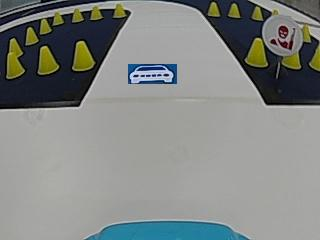evil: (261, 15, 301, 55)
